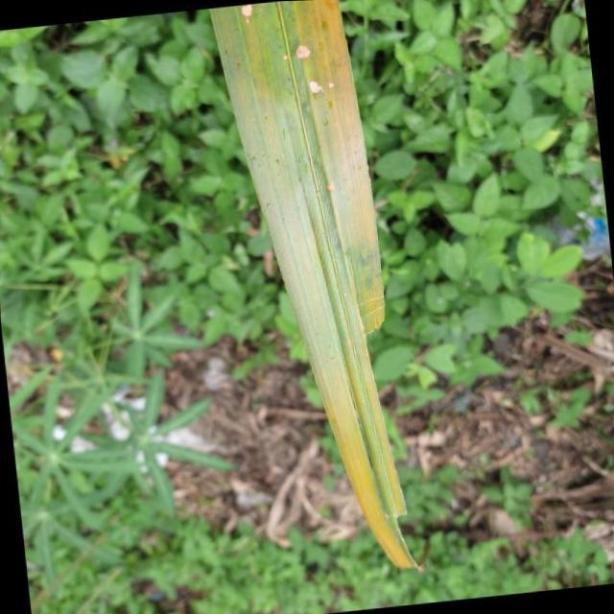Megnesium: (211, 0, 433, 576)
